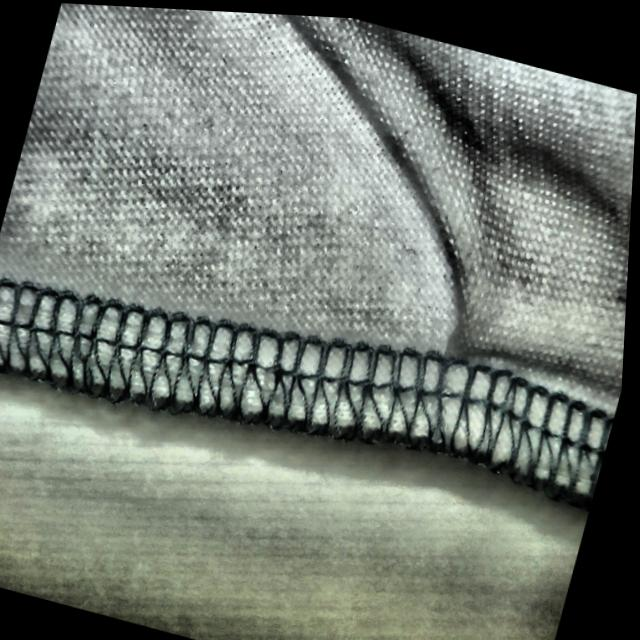seam: (376, 224, 591, 520)
